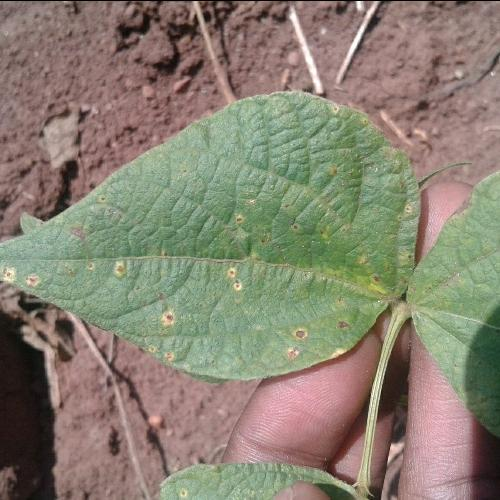embun tepung: (3, 182, 162, 292), (202, 172, 320, 306), (256, 292, 366, 368), (148, 283, 182, 379)
